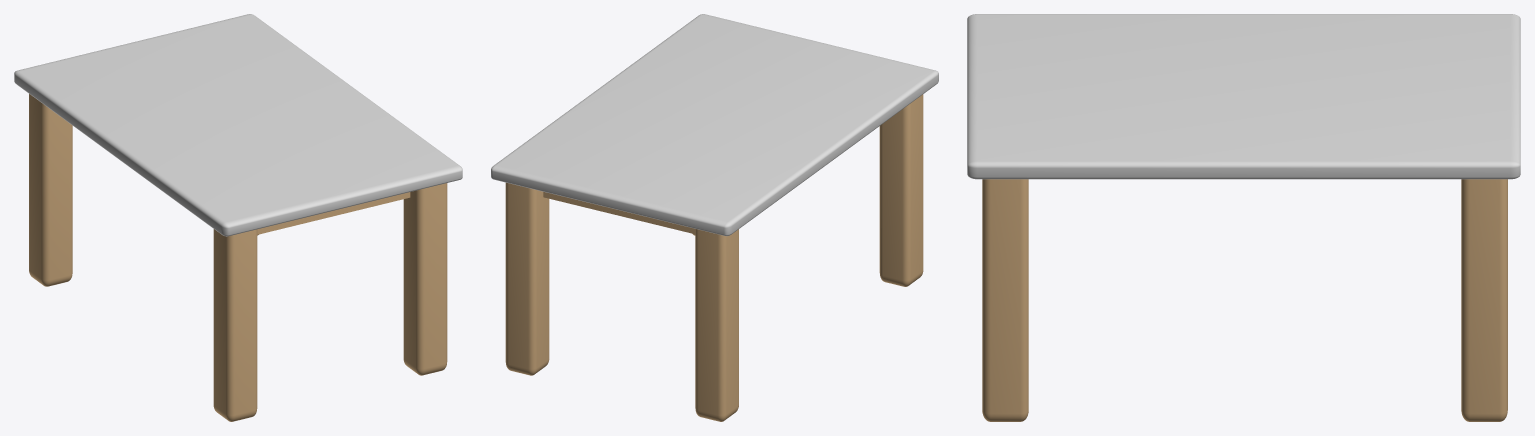
The model's file is simple_rect_table_B.glb.
3 renders of one model, left to right at view 1: azimuth 30°, elevation 25°; view 2: azimuth 150°, elevation 25°; view 3: azimuth 270°, elevation 25°, orthographic. The views are drawn at different scales.
Parts seen in each view (by area): view 1: simple_rect_table_B; view 2: simple_rect_table_B; view 3: simple_rect_table_B.
Boxes of the visible parts, x1,y1,x2,y2 form: simple_rect_table_B: [14, 14, 462, 421]; simple_rect_table_B: [491, 14, 938, 421]; simple_rect_table_B: [967, 14, 1520, 421].
Size of the model in its own units: 1.14 by 0.934 by 1.75.
